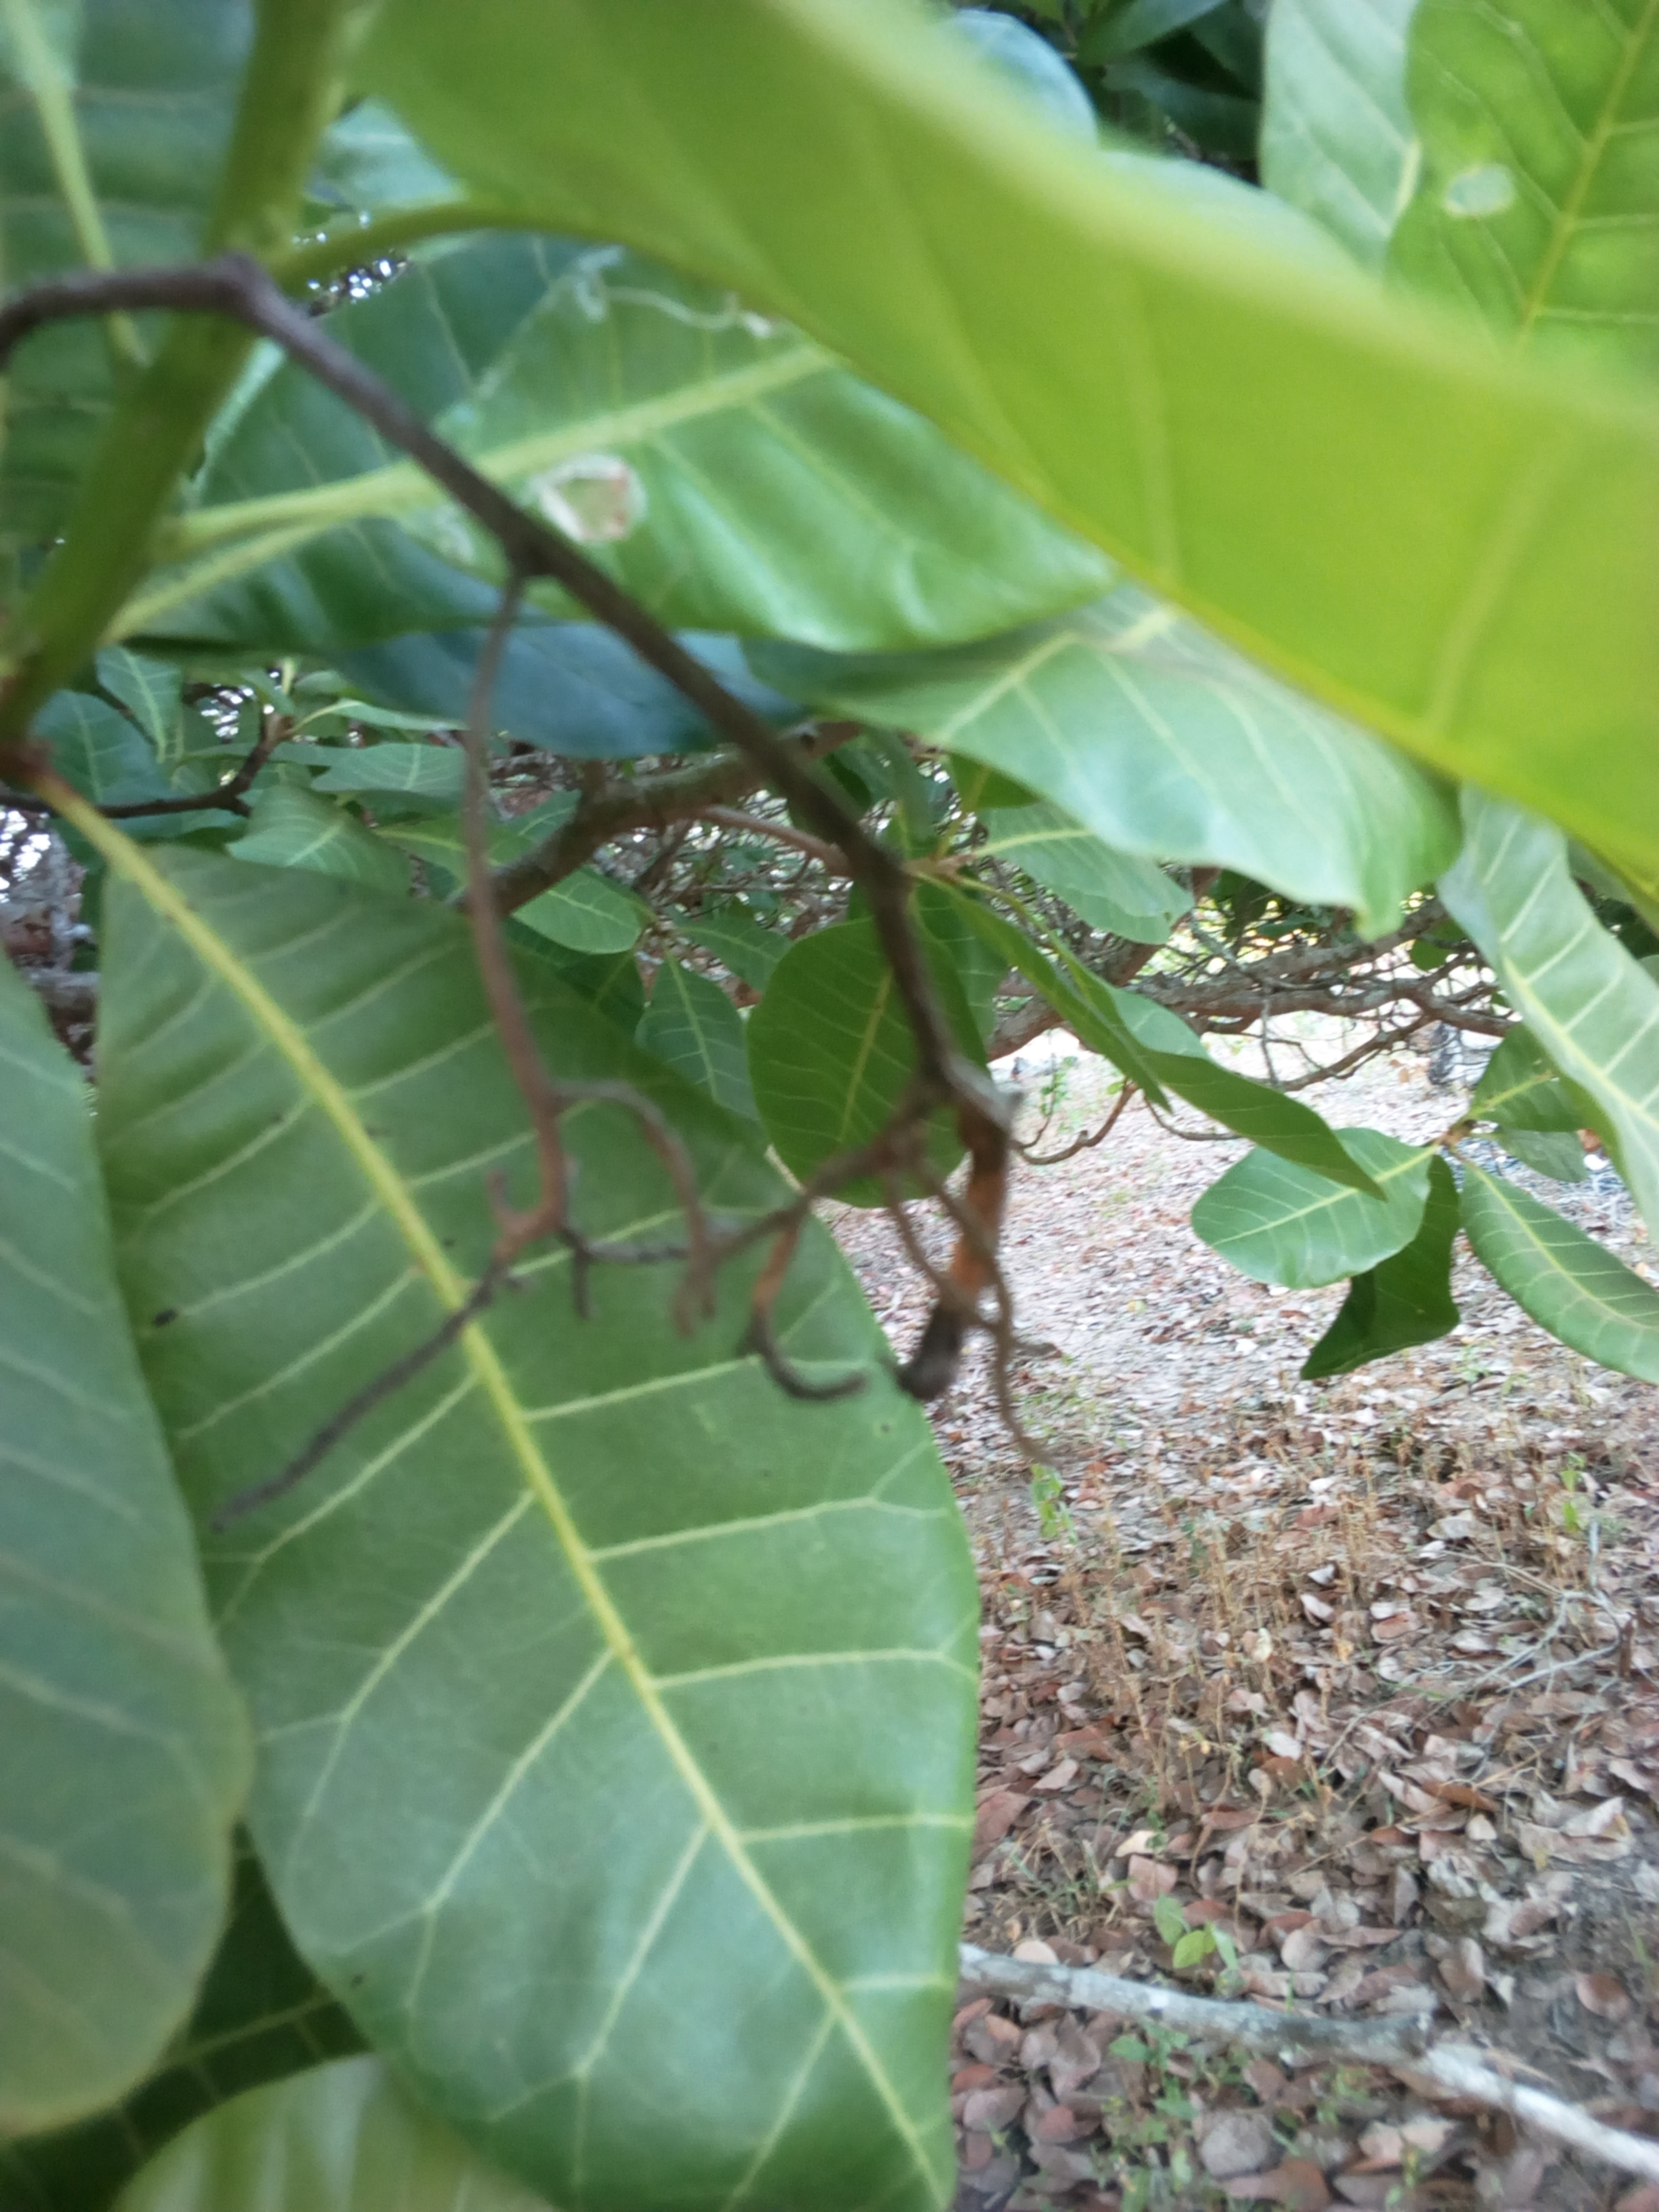Dessèchement des bourgeons: (474, 1078, 1178, 1432)
